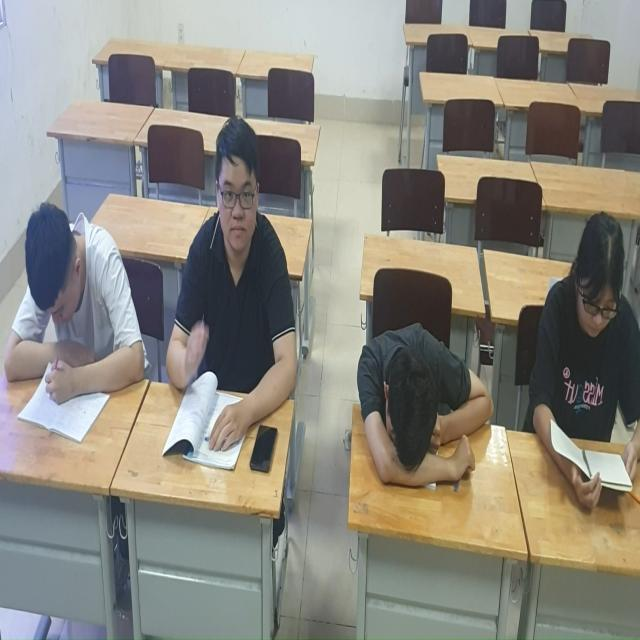raise_hand: (155, 108, 304, 476)
read: (1, 178, 150, 459), (526, 204, 640, 521)
sleep: (350, 291, 500, 520)
